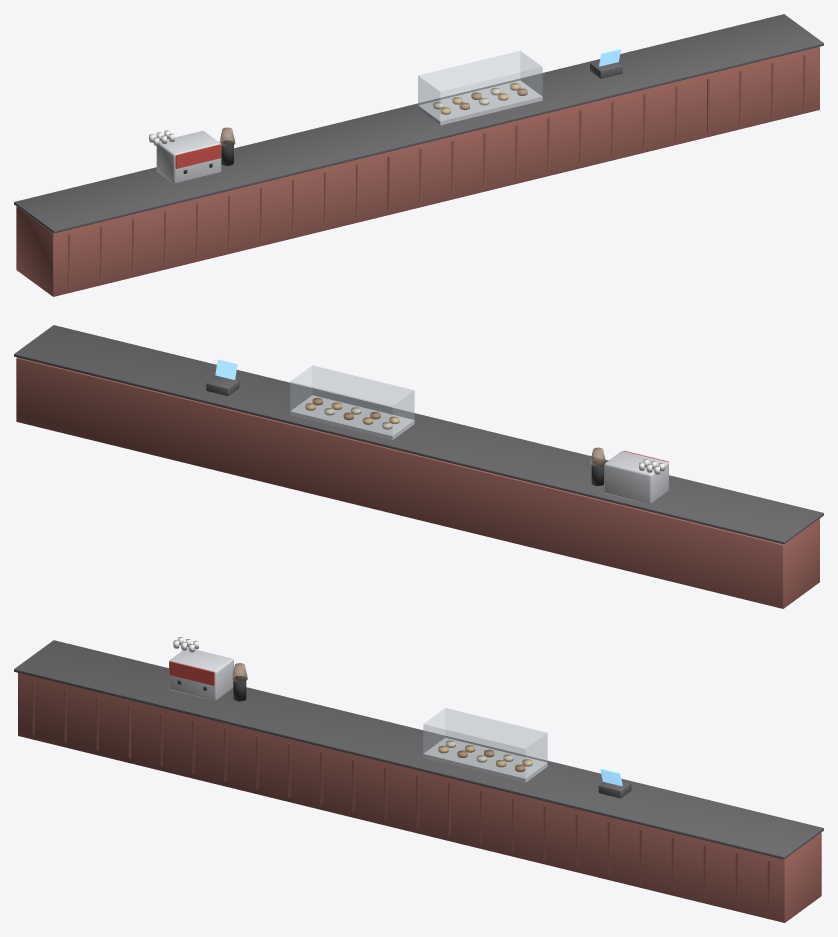
The model's file is cafe_counter.glb.
3 renders of one model, top to bottom at view 1: azimuth 30°, elevation 25°; view 2: azimuth 150°, elevation 25°; view 3: azimuth 330°, elevation 25°, orthographic.
Parts seen in each view (by area): view 1: Cube, Cube.025, Cube.029, Cube.028, Cube.026, Cube.027; view 2: Cube, Cube.025, Cube.029, Cube.026, Cube.028; view 3: Cube, Cube.025, Cube.029, Cube.028, Cube.026, Cube.027.
Boxes of the visible parts, <box> form: Cube: <box>16,46,819,296</box>; Cube.025: <box>14,14,823,233</box>; Cube.029: <box>418,51,542,120</box>; Cube.028: <box>418,80,542,125</box>; Cube.026: <box>156,131,221,183</box>; Cube.027: <box>175,144,220,168</box>; Cube: <box>16,357,819,608</box>; Cube.025: <box>14,325,823,544</box>; Cube.029: <box>290,365,414,435</box>; Cube.026: <box>604,451,668,503</box>; Cube.028: <box>290,395,414,440</box>; Cube: <box>18,673,821,922</box>; Cube.025: <box>14,640,823,859</box>; Cube.029: <box>423,708,547,778</box>; Cube.028: <box>423,737,547,782</box>; Cube.026: <box>169,648,233,700</box>; Cube.027: <box>169,661,214,685</box>.
Size of the model in its own units: 12.05 by 1.59 by 1.08.
